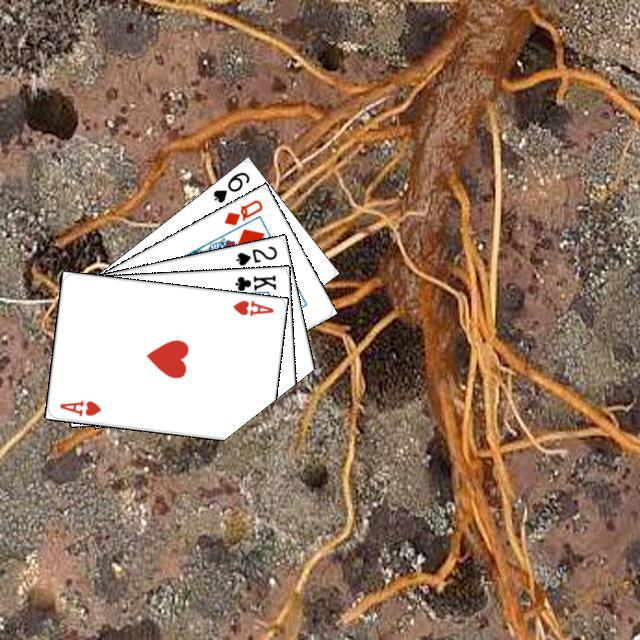2s: (231, 241, 279, 267)
6s: (208, 167, 252, 205)
Ah: (55, 395, 103, 418), (228, 295, 275, 317)
Kc: (226, 270, 278, 297)
Qd: (219, 195, 265, 227)
